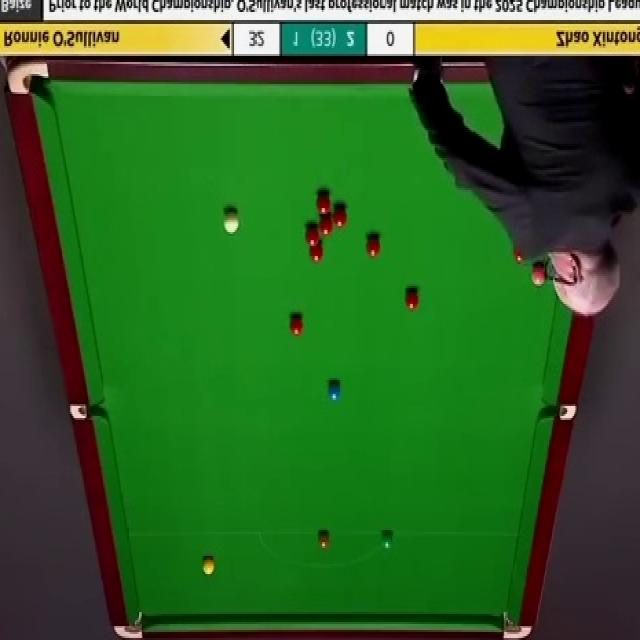blue-ball: (329, 381, 341, 404)
brown-ball: (317, 531, 331, 549)
green-ball: (380, 530, 395, 552)
pink-ball: (530, 265, 547, 287)
red-ball: (364, 232, 382, 260), (403, 289, 420, 312), (288, 315, 303, 340), (332, 205, 348, 227), (320, 212, 334, 235), (308, 243, 324, 263), (305, 223, 320, 244), (316, 193, 330, 215)
white-ball: (223, 207, 239, 234)
yellow-ball: (202, 554, 215, 576)
